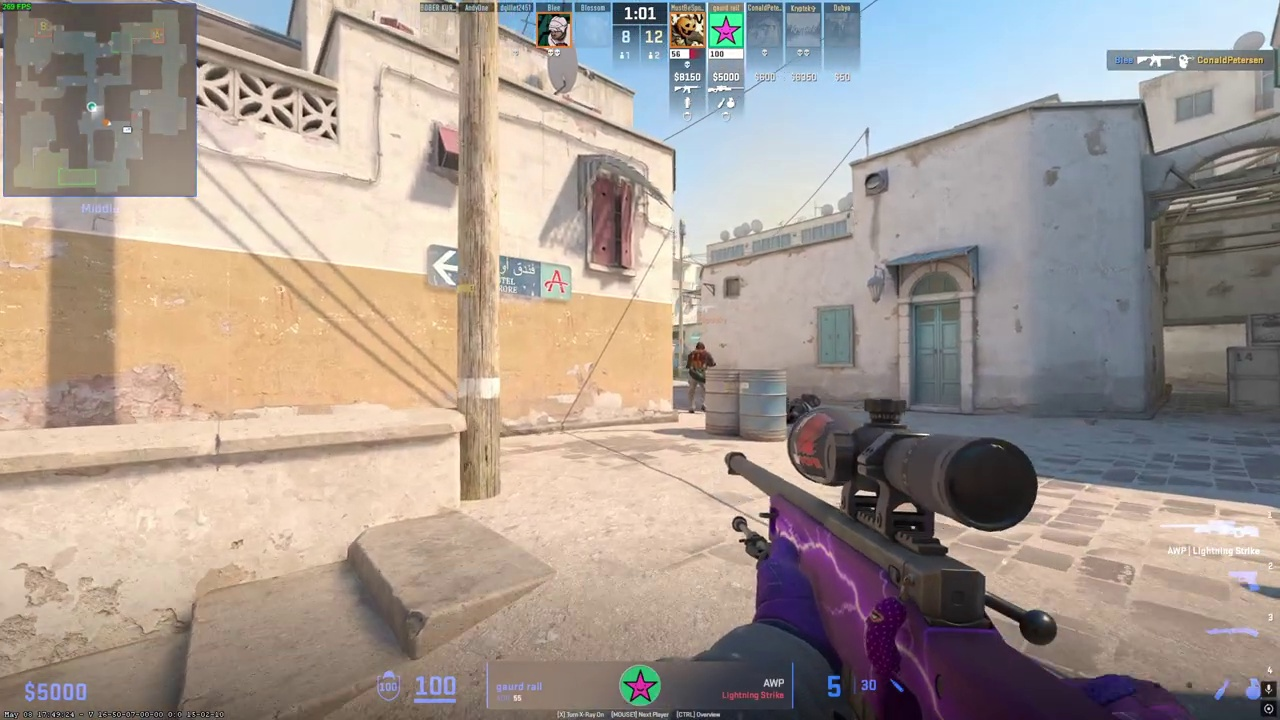Terrorist: (685, 341, 711, 413)
